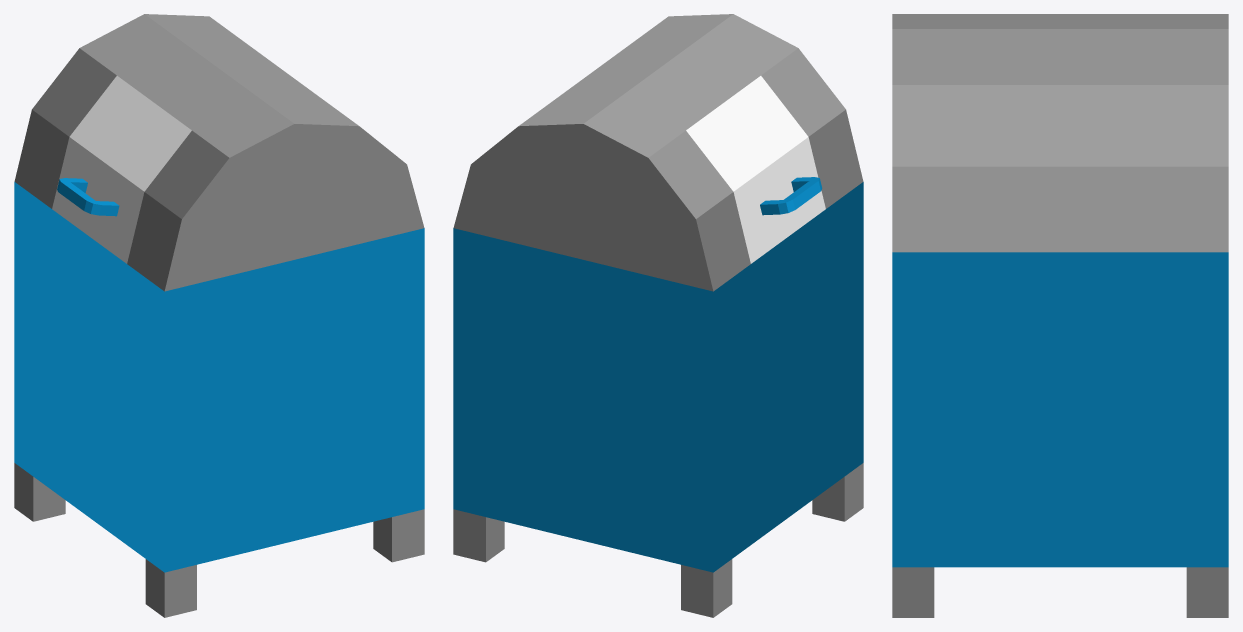
The model's file is postbox.glb.
The picture shows the model from 3 angles, left to right: view 1: azimuth 30°, elevation 25°; view 2: azimuth 150°, elevation 25°; view 3: azimuth 270°, elevation 25°; orthographic projection. The views are drawn at different scales.
Visible parts, largest first — view 1: group1166206873; view 2: group1166206873; view 3: group1166206873.
Boxes of the visible parts, bbox=[...] form: group1166206873: bbox=[14, 14, 424, 617]; group1166206873: bbox=[453, 14, 863, 617]; group1166206873: bbox=[892, 14, 1228, 617].
Bounding box in the file's own units: 0.644 × 1.02 × 0.6.
